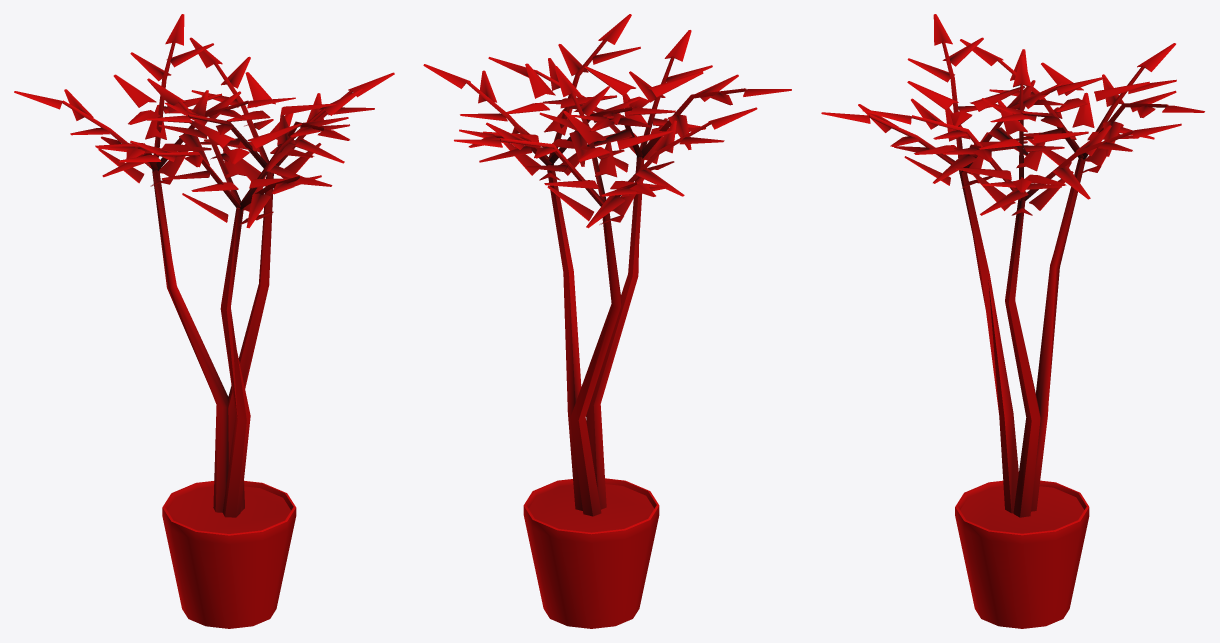
Rendered from CI_Decor_Plant_OliveTree.glb.
The picture shows the model from 3 angles, left to right: view 1: azimuth 30°, elevation 25°; view 2: azimuth 150°, elevation 25°; view 3: azimuth 270°, elevation 25°; orthographic projection.
Parts seen in each view (by area): view 1: CI_Decor_Plant_OliveTree; view 2: CI_Decor_Plant_OliveTree; view 3: CI_Decor_Plant_OliveTree.
Part boxes in pixels (x1=…): CI_Decor_Plant_OliveTree: x1=14, y1=14, x2=394, y2=628; CI_Decor_Plant_OliveTree: x1=423, y1=14, x2=791, y2=628; CI_Decor_Plant_OliveTree: x1=821, y1=14, x2=1204, y2=628.
Bounding box in the file's own units: 0.937 × 1.45 × 0.9742.
